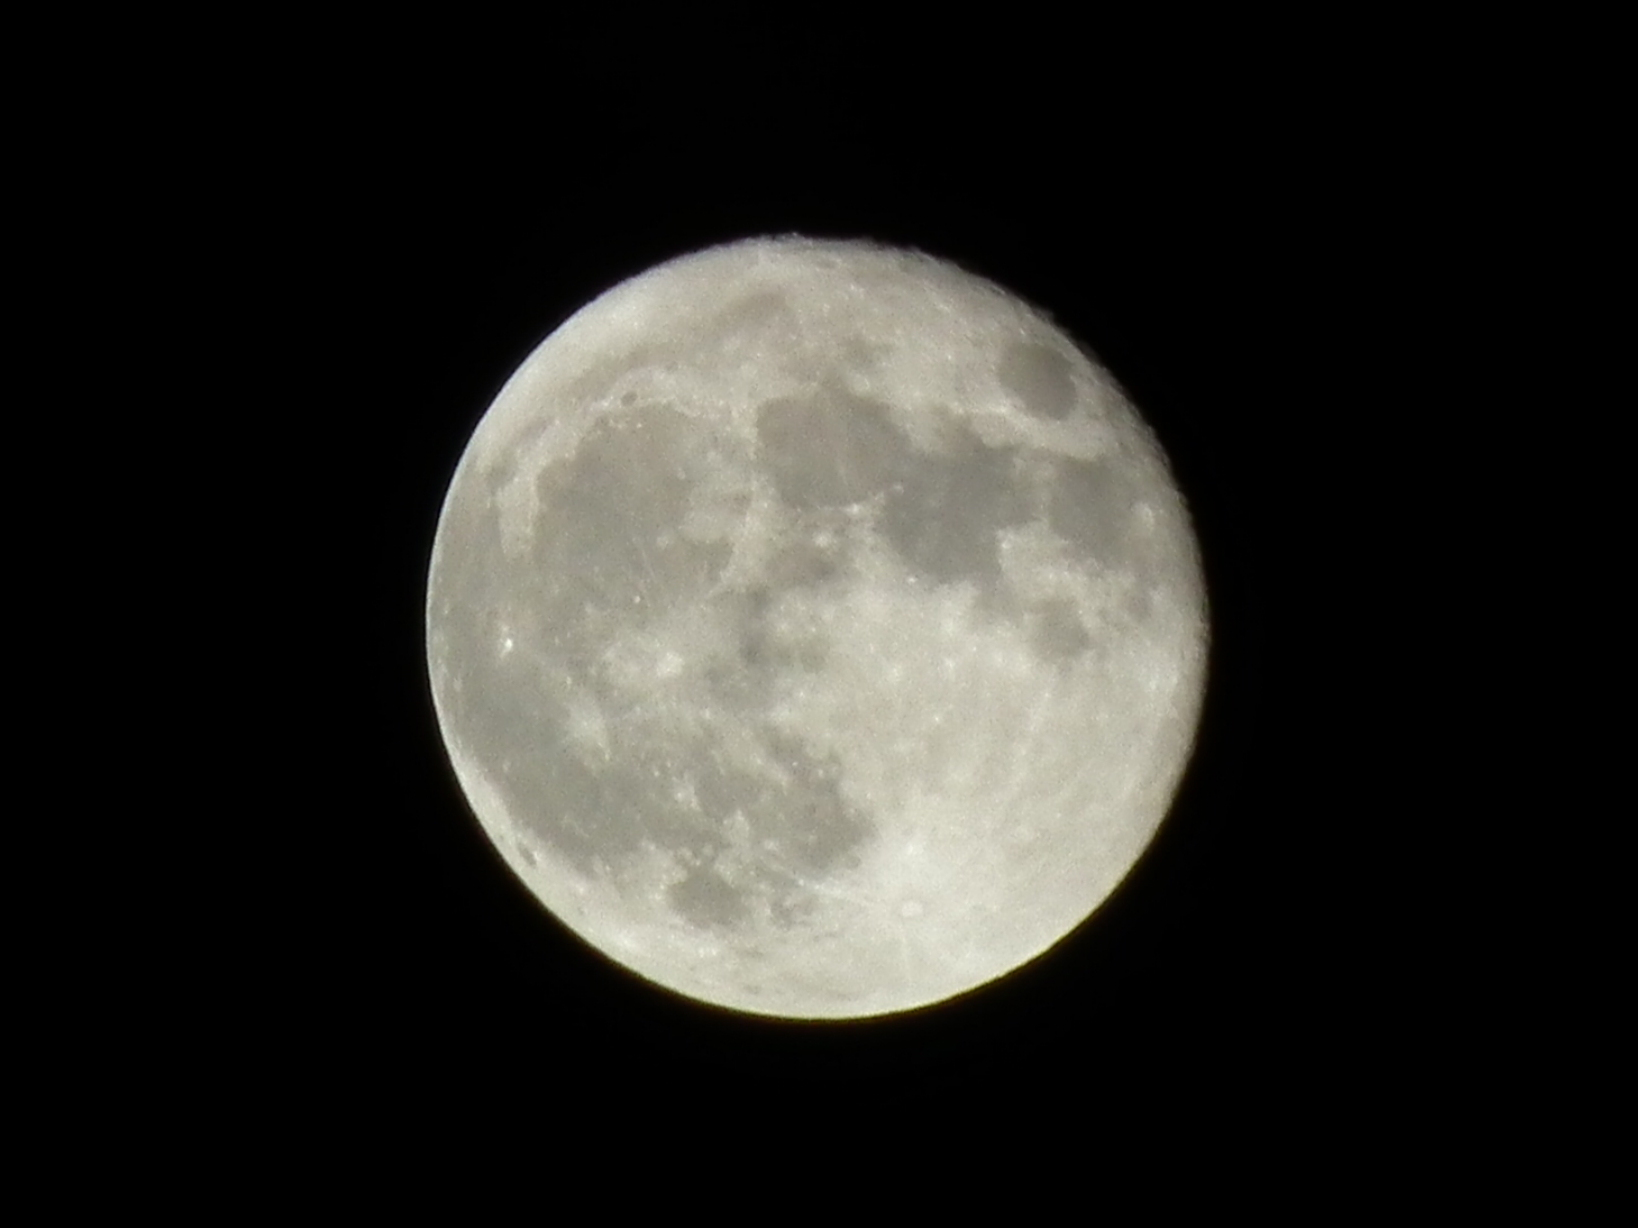crater: (637, 611, 706, 697), (869, 868, 951, 935), (1110, 489, 1174, 571), (588, 377, 659, 430), (553, 702, 607, 756), (475, 626, 529, 669), (513, 827, 557, 873), (874, 645, 913, 688), (825, 488, 871, 521), (920, 694, 951, 737), (927, 341, 963, 377), (1032, 678, 1067, 713), (994, 525, 1028, 560), (895, 562, 927, 597), (780, 748, 807, 778)
